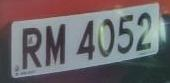0: (96, 13, 118, 61)
2: (135, 9, 155, 55)
4: (74, 13, 98, 68)
5: (117, 11, 137, 59)
M: (42, 21, 68, 69)
R: (18, 23, 45, 73)
